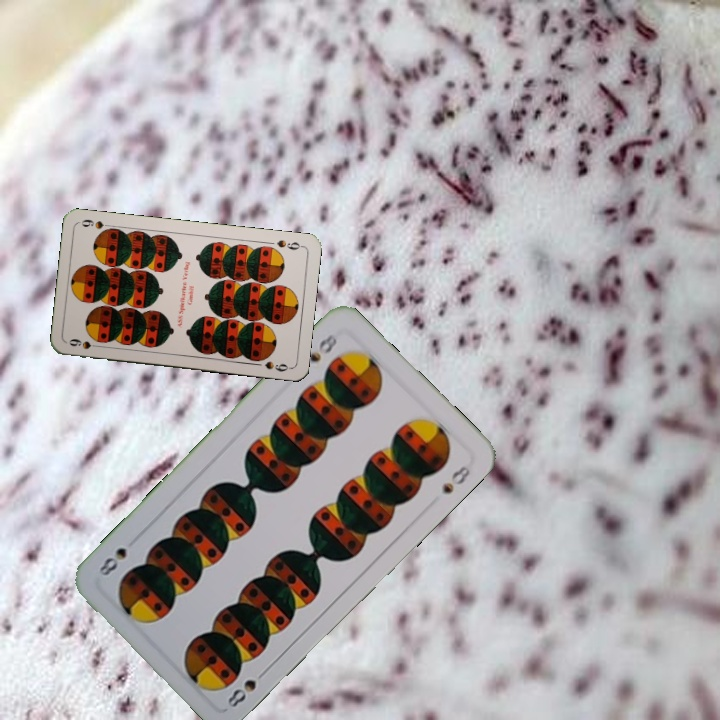S8: (305, 329, 340, 365), (223, 675, 259, 710)
S9: (65, 335, 105, 351), (273, 236, 305, 252)
